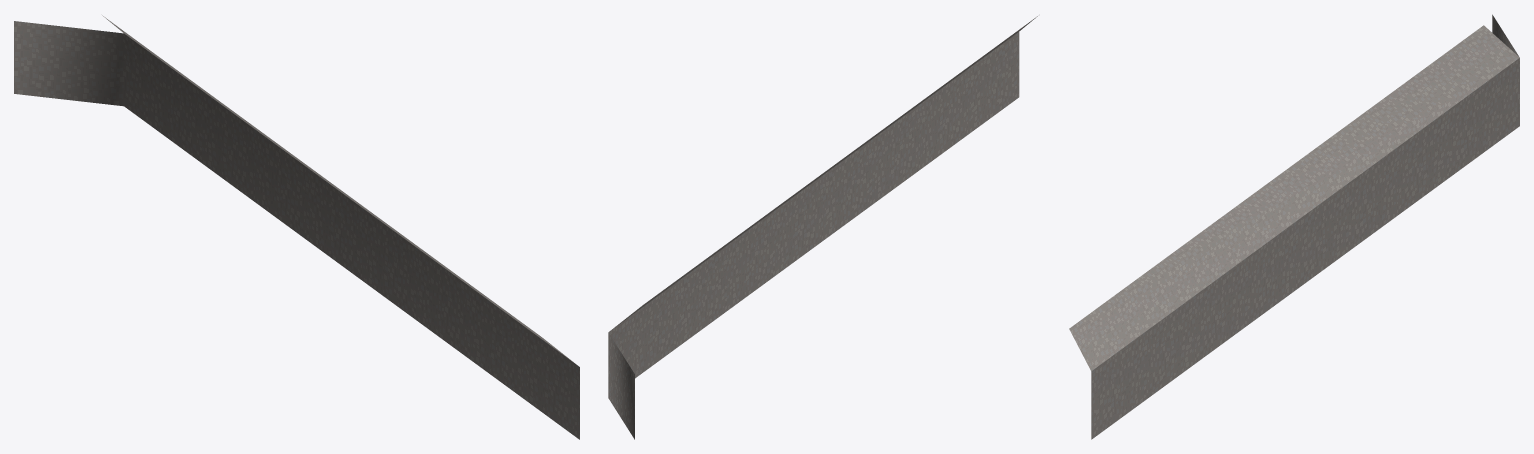
File: kd_stage_135c43_4_29_bounded_piece_8.glb
3 renders of one model, left to right at view 1: azimuth 30°, elevation 25°; view 2: azimuth 150°, elevation 25°; view 3: azimuth 330°, elevation 25°, orthographic. The views are drawn at different scales.
Visible parts, largest first — view 1: kd_stage_135c43_4_29_bounded_piece_8; view 2: kd_stage_135c43_4_29_bounded_piece_8; view 3: kd_stage_135c43_4_29_bounded_piece_8.
Boxes of the visible parts, x1=… form: kd_stage_135c43_4_29_bounded_piece_8: x1=14, y1=15, x2=579, y2=439; kd_stage_135c43_4_29_bounded_piece_8: x1=608, y1=16, x2=1037, y2=439; kd_stage_135c43_4_29_bounded_piece_8: x1=1069, y1=14, x2=1519, y2=439.
Bounding box in the file's own units: 0.09 × 0.13 × 1.11.
1 material, 1 textured.
